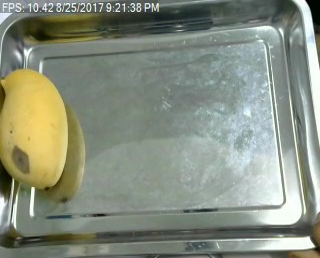Mango: (0, 70, 72, 190)
